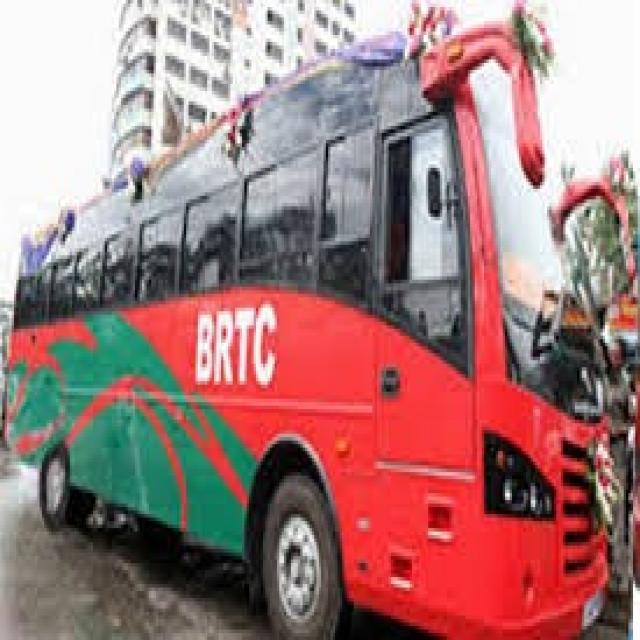bus: (8, 0, 640, 638)
